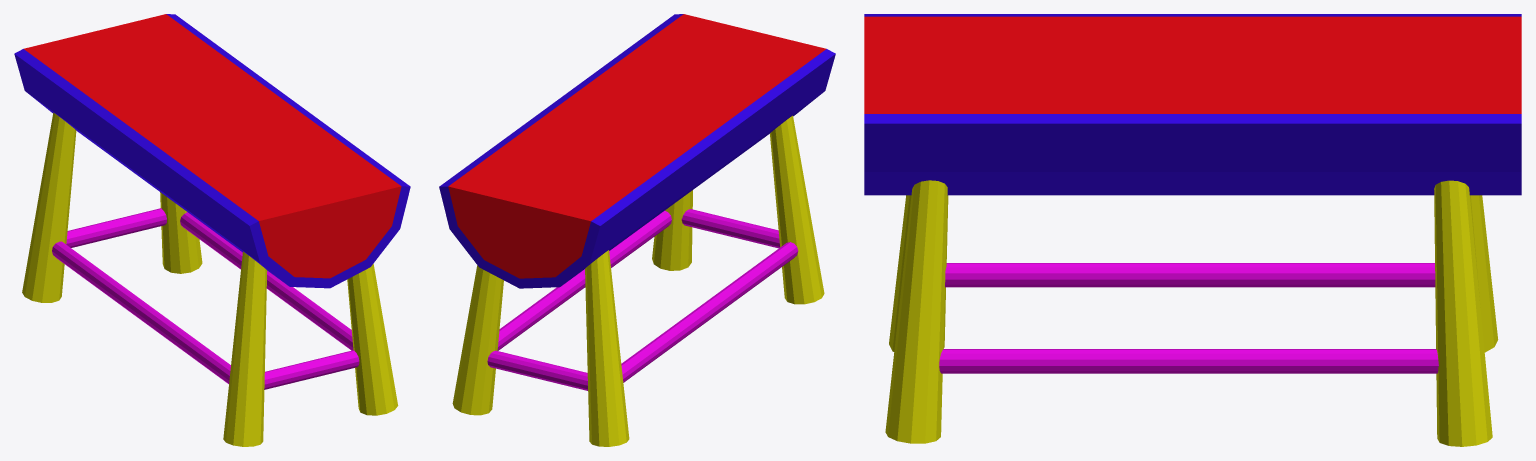
Rendered from mesa_madeira.fbx.
The picture shows the model from 3 angles, left to right: view 1: azimuth 30°, elevation 25°; view 2: azimuth 150°, elevation 25°; view 3: azimuth 270°, elevation 25°; orthographic projection. The views are drawn at different scales.
Visible parts, largest first — view 1: mesa_madeira; view 2: mesa_madeira; view 3: mesa_madeira.
Part boxes in pixels (left/top/right/bottom): mesa_madeira: left=14, top=14, right=410, bottom=446; mesa_madeira: left=439, top=14, right=835, bottom=446; mesa_madeira: left=864, top=14, right=1521, bottom=446.
Size of the model in its own units: 0.5618 by 0.7319 by 1.32.
